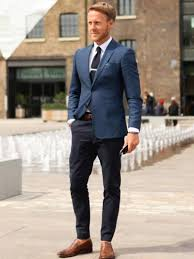F_M_suit jacket: (68, 36, 147, 138)
F_belt: (72, 105, 109, 127)
F_dress pants: (67, 117, 129, 247)
F_tie: (84, 43, 108, 88)
